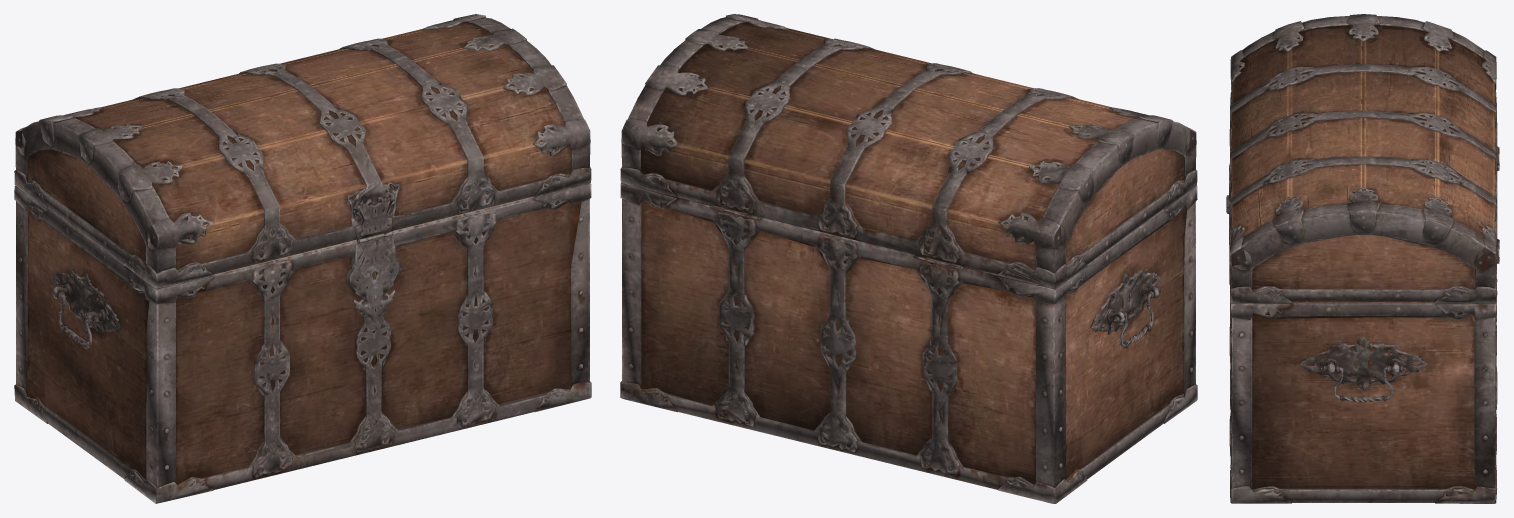
The model's file is treasure_chest.glb.
The picture shows the model from 3 angles, left to right: view 1: azimuth 30°, elevation 25°; view 2: azimuth 150°, elevation 25°; view 3: azimuth 270°, elevation 25°; orthographic projection. The views are drawn at different scales.
Parts seen in each view (by area): view 1: treasure_chest_bottom, treasure_chest_lid, treasure_chest_lock; view 2: treasure_chest_bottom, treasure_chest_lid; view 3: treasure_chest_lid, treasure_chest_bottom, treasure_chest_handle_right.
Part boxes in pixels (x1,y1,x2,y2): treasure_chest_bottom: (14,183,591,503); treasure_chest_lid: (14,14,591,288); treasure_chest_lock: (349,233,399,322); treasure_chest_bottom: (620,183,1197,503); treasure_chest_lid: (620,14,1197,288); treasure_chest_lid: (1226,14,1499,303); treasure_chest_bottom: (1229,131,1499,503); treasure_chest_handle_right: (1320,365,1406,402).
Bounding box in the file's own units: 0.959 × 0.618 × 0.5223.
1 material, 1 textured.
